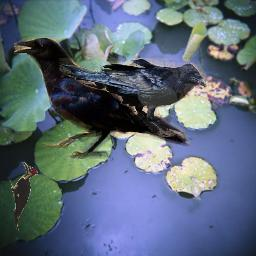Crow: (14, 37, 190, 159), (59, 58, 207, 137)
Woodpecker: (7, 162, 38, 231)
